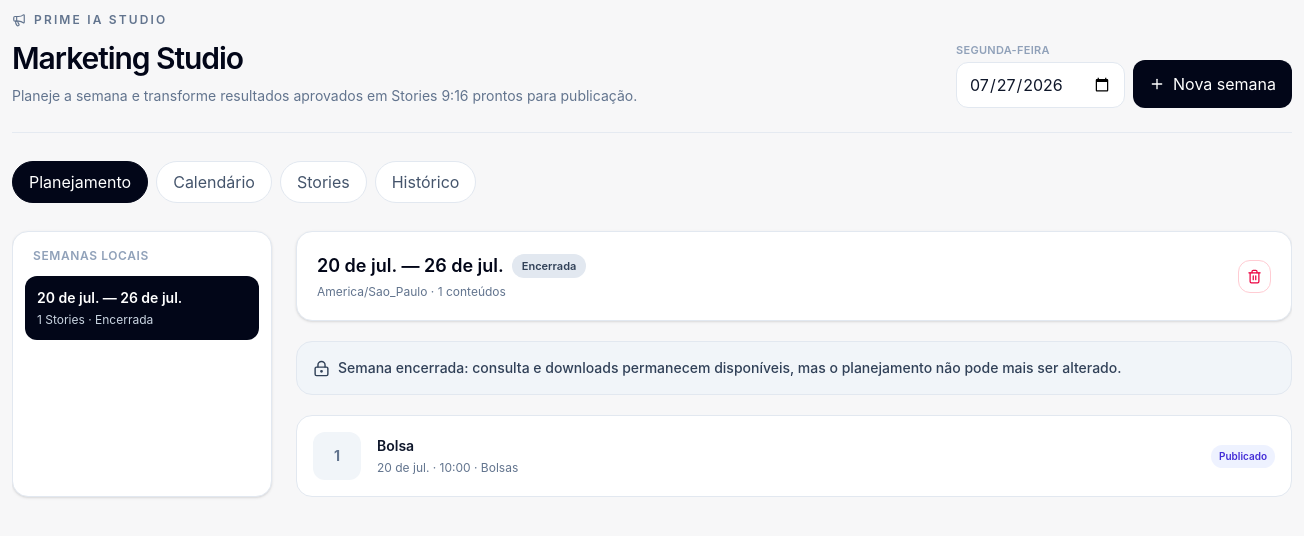
Test: Marketing Studio UI › shows categories and editorial totals, and keeps a closed week read-only
Expected: the text "Semana encerrada" is shown, [338, 359, 1121, 376]
Click the button "Histórico" at (426, 182), box [375, 161, 476, 203]
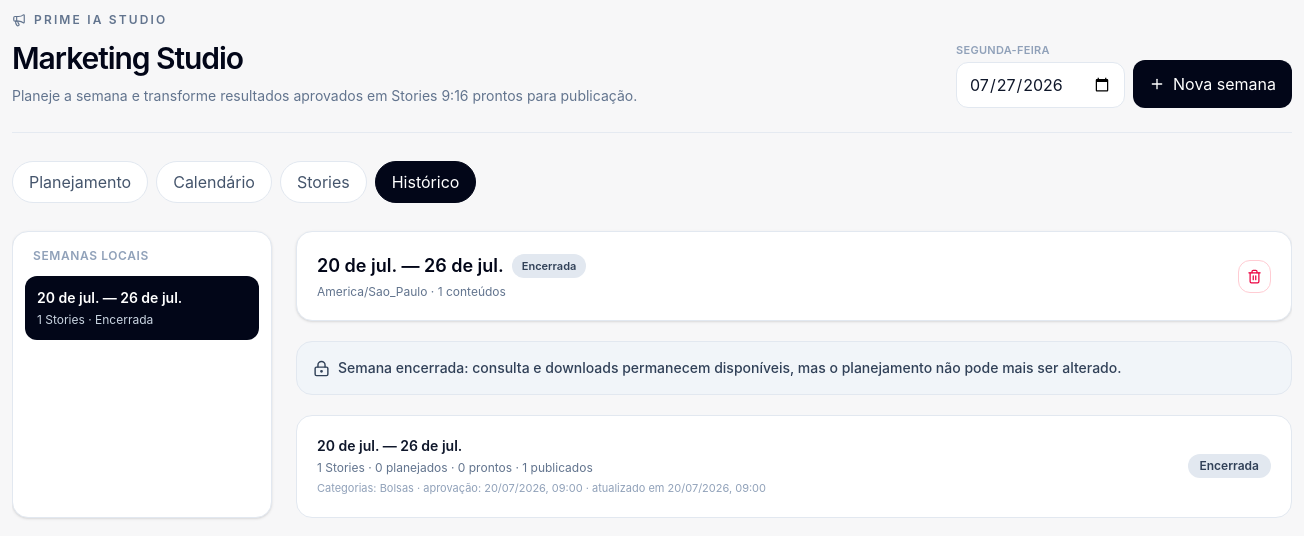
Expected: the text "1 Stories · 0 planejados · 0 prontos · 1 publicados" is shown, [317, 460, 593, 475]
Expected: the text "Categorias: Bolsas" is shown, [317, 480, 766, 496]
